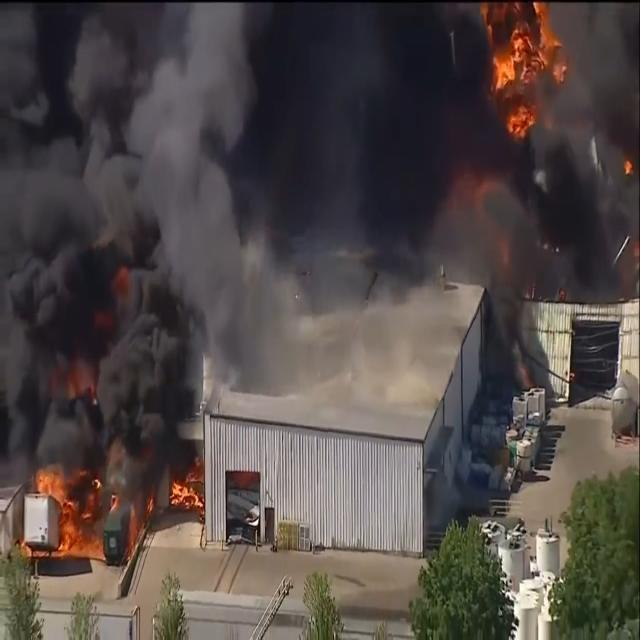Fire: (16, 457, 156, 561), (474, 0, 569, 146), (94, 264, 130, 333), (54, 354, 96, 402), (168, 476, 204, 509)
Smoke: (360, 0, 640, 371), (0, 0, 197, 506), (131, 0, 320, 389)
